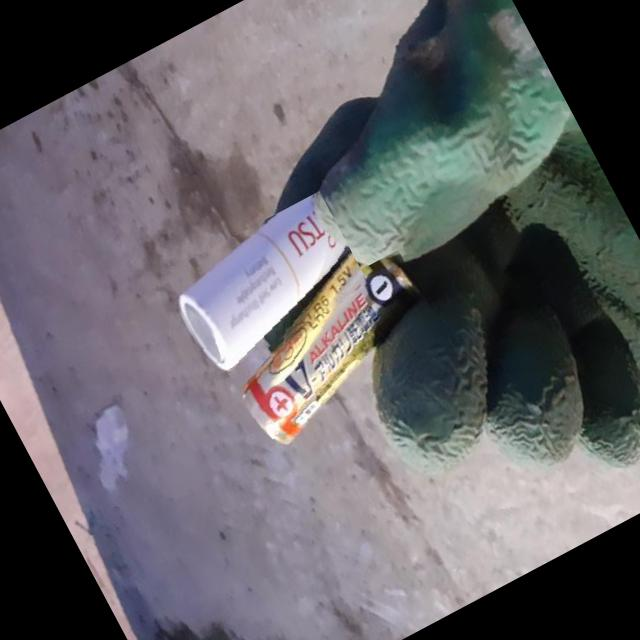Hazard: (213, 246, 458, 453), (160, 190, 374, 380)
